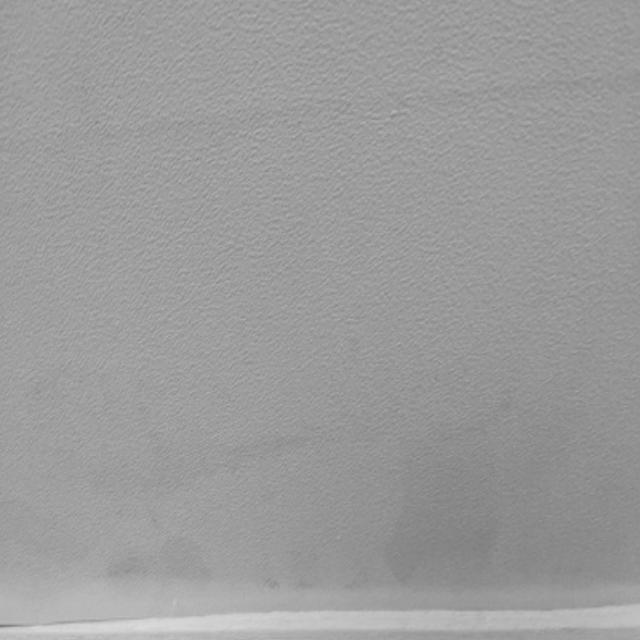stain marks: (93, 63, 640, 157), (505, 359, 640, 598), (215, 340, 383, 502), (388, 394, 502, 598), (15, 503, 209, 585), (237, 546, 374, 603)
